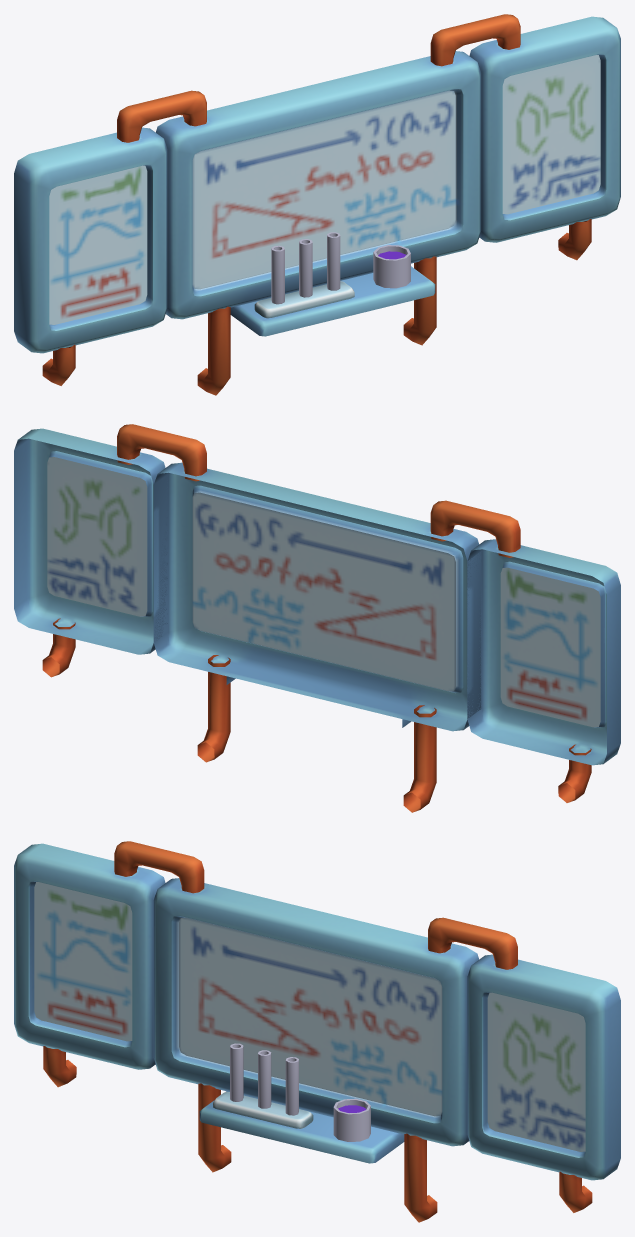
Rendered from ScienceLab_Item_Whiteboard.FBX.
3 views of the same model, one above another, from view 1: azimuth 30°, elevation 25°; view 2: azimuth 150°, elevation 25°; view 3: azimuth 330°, elevation 25° (orthographic).
Parts seen in each view (by area): view 1: ScienceLab_Item_Whiteboard; view 2: ScienceLab_Item_Whiteboard; view 3: ScienceLab_Item_Whiteboard.
Boxes of the visible parts, bbox=[...] form: ScienceLab_Item_Whiteboard: bbox=[14, 14, 620, 395]; ScienceLab_Item_Whiteboard: bbox=[14, 424, 620, 812]; ScienceLab_Item_Whiteboard: bbox=[14, 841, 620, 1222].
Bounding box in the file's own units: 3.94 × 1.96 × 0.4662.
